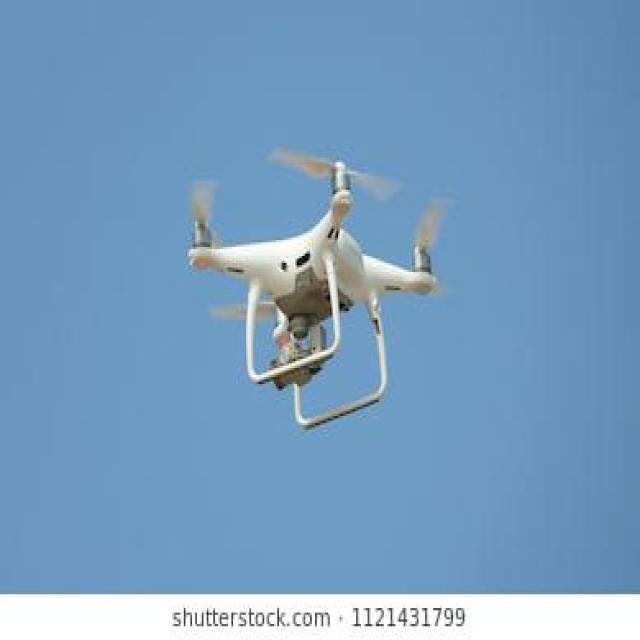drone: (182, 143, 452, 429)
